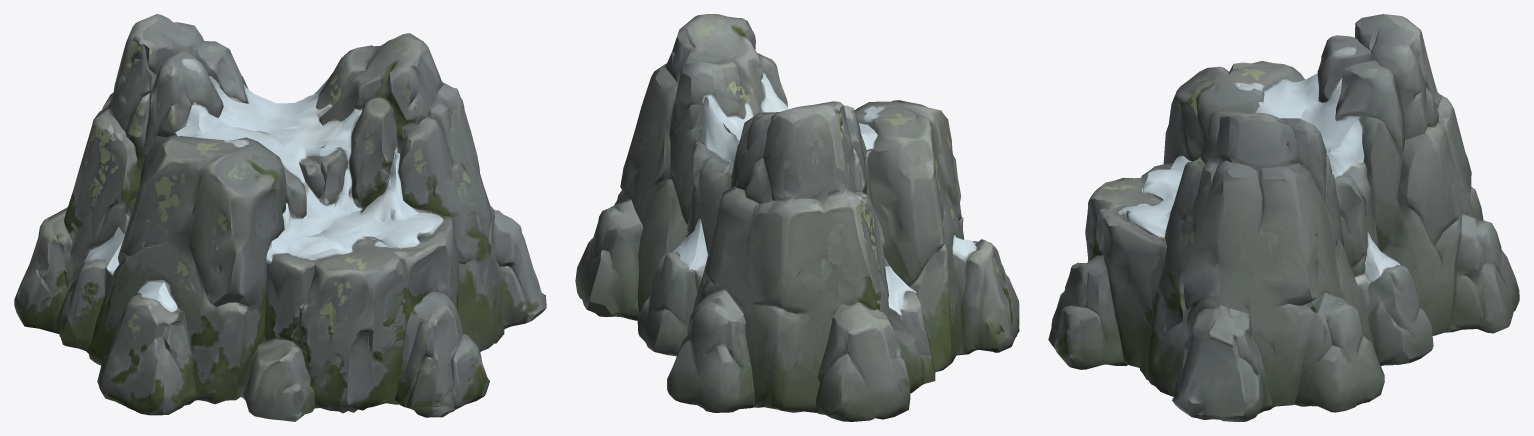
3 views of the same model, side by side, from view 1: azimuth 30°, elevation 25°; view 2: azimuth 150°, elevation 25°; view 3: azimuth 270°, elevation 25° (orthographic). The views are drawn at different scales.
Parts seen in each view (by area): view 1: mountain_peak; view 2: mountain_peak; view 3: mountain_peak.
Boxes of the visible parts, x1,y1,x2,y2 form: mountain_peak: (14,14,546,421); mountain_peak: (575,14,1019,421); mountain_peak: (1048,14,1519,421).
Size of the model in its own units: 0.9799 by 0.6298 by 0.9804.
1 material, 1 textured.
